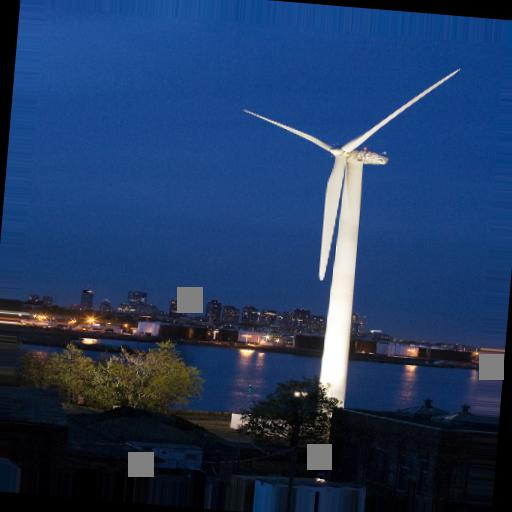wind turbine: (242, 66, 462, 412)
